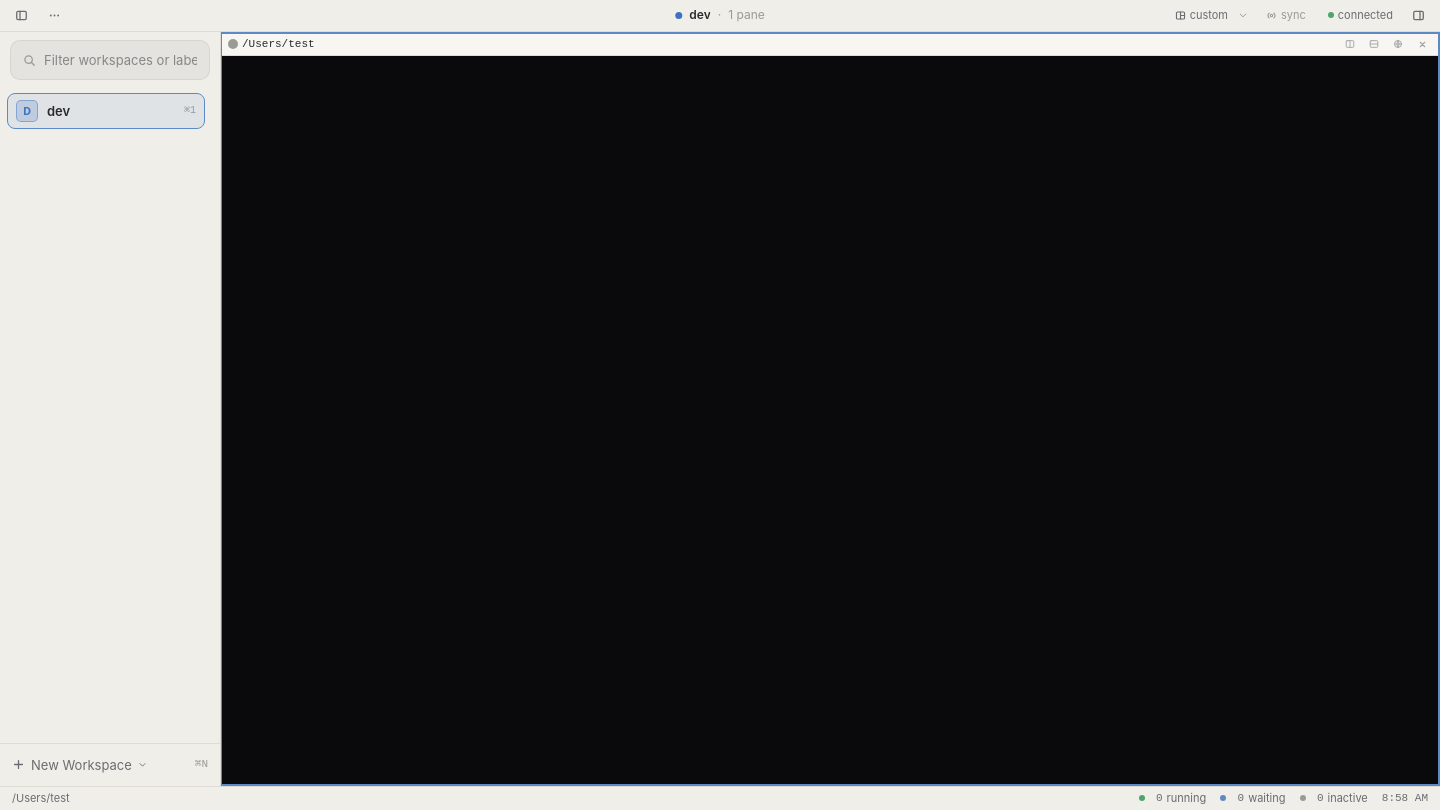
Test: pane context menu (TERM-106…TERM-111) › opens on a header right-click with the Swift menu’s items
Right-click the element showing "/Users /test" at (830, 44), box [220,32,1439,56]
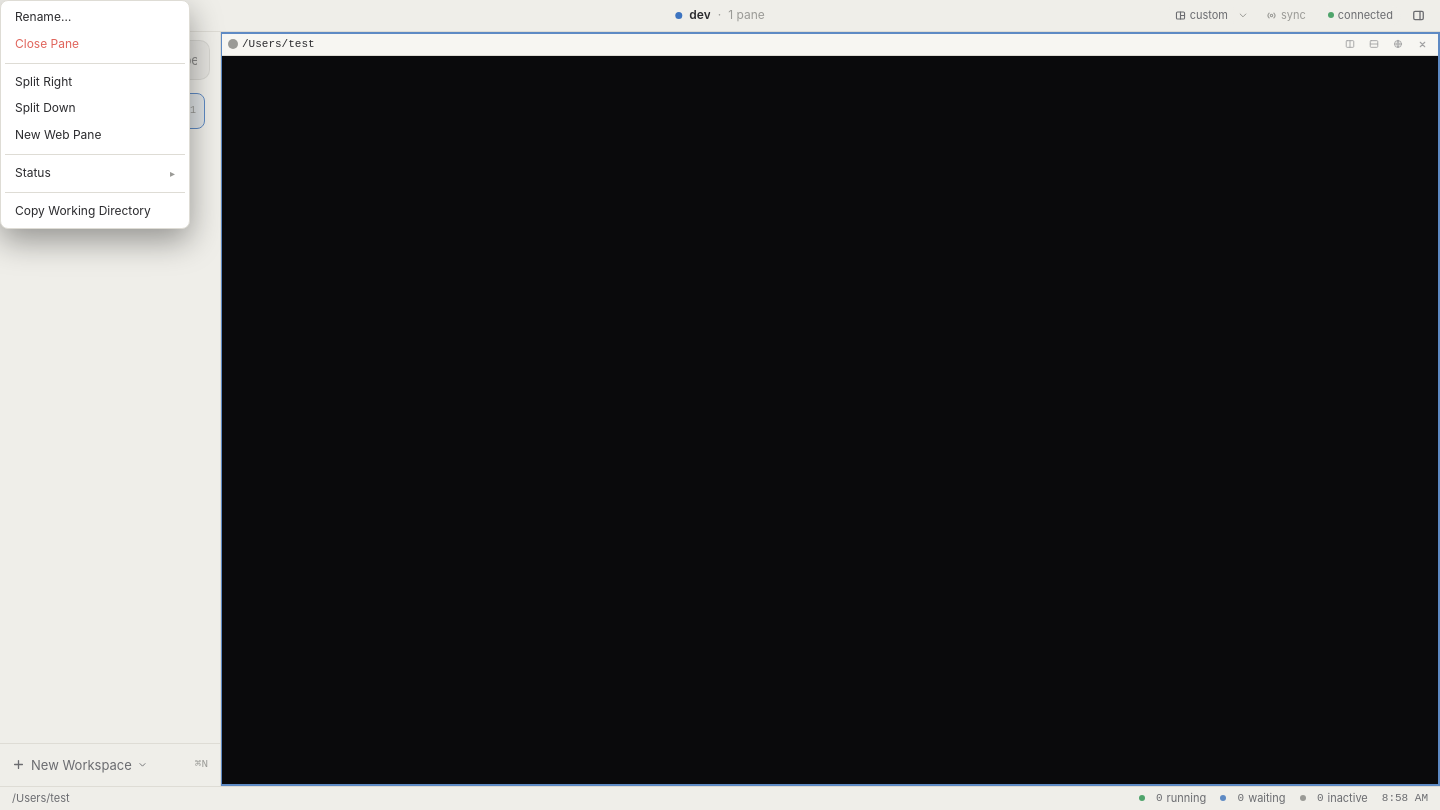
Now the text "Rename…" is shown, box [15,9,71,24]
Now the text "Close Pane" is shown, box [15,36,79,51]
Now the text "Split Right" is shown, box [15,74,72,89]
